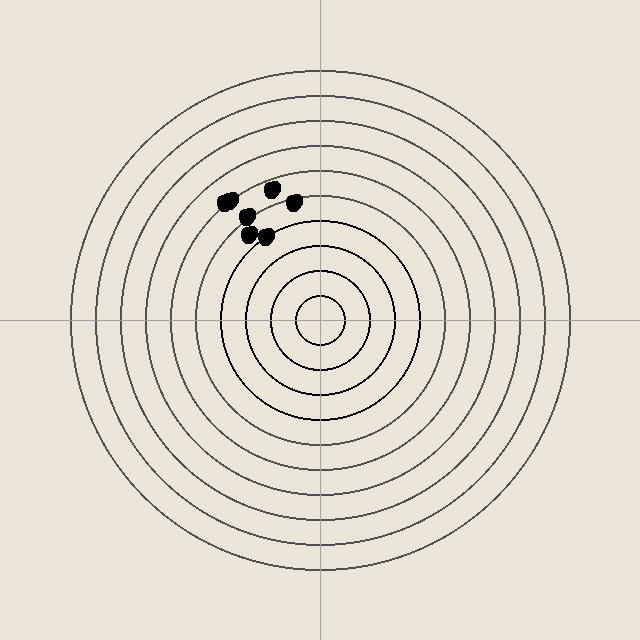good_group: (261, 179, 281, 199), (214, 192, 234, 212), (283, 192, 303, 212), (255, 226, 275, 246), (236, 206, 256, 226), (219, 190, 239, 210), (238, 224, 258, 244)
